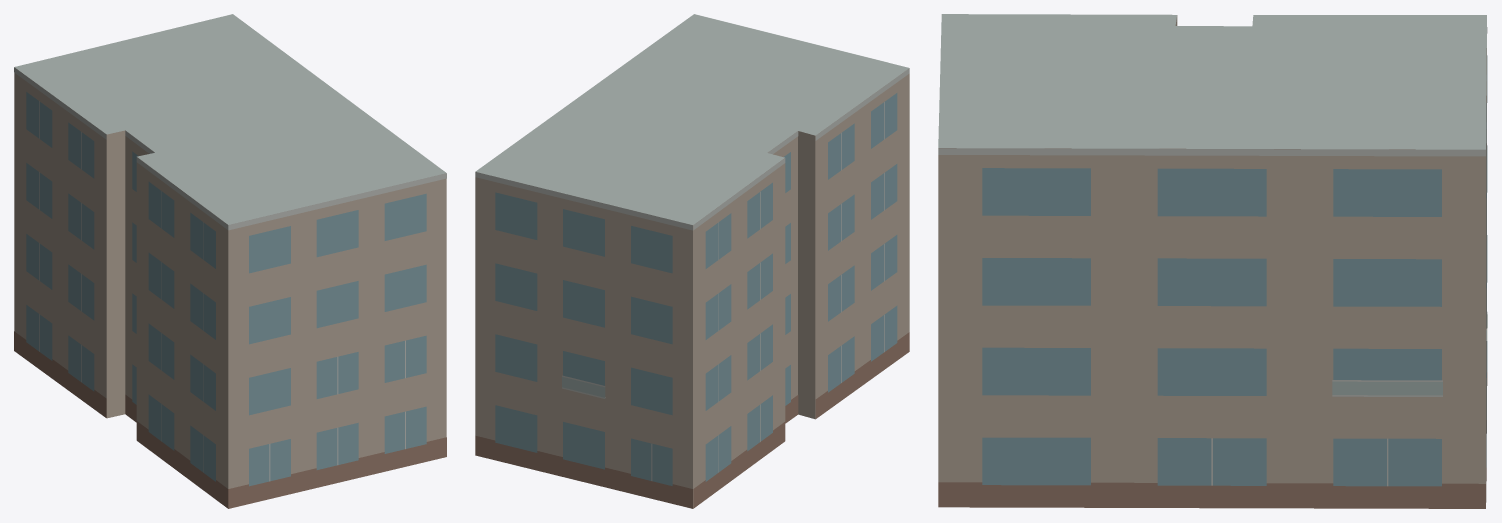
File: survey-upis-32745544.glb
3 views of the same model, side by side, from view 1: azimuth 30°, elevation 25°; view 2: azimuth 150°, elevation 25°; view 3: azimuth 270°, elevation 25° (orthographic). The views are drawn at different scales.
Parts seen in each view (by area): view 1: survey-upis-32745544.tmp; view 2: survey-upis-32745544.tmp; view 3: survey-upis-32745544.tmp.
Boxes of the visible parts, box(x1,y1,x2,y2) form: survey-upis-32745544.tmp: box(14, 14, 446, 508); survey-upis-32745544.tmp: box(475, 14, 909, 508); survey-upis-32745544.tmp: box(938, 14, 1487, 508).
Size of the model in its own units: 10.44 by 12.85 by 17.83.
